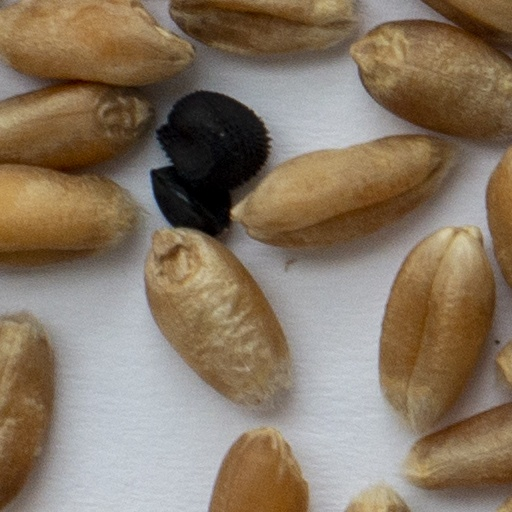Agrostemma-poly: (159, 92, 268, 195)
Fallopia-Convolvulus-poly: (150, 164, 231, 236)
